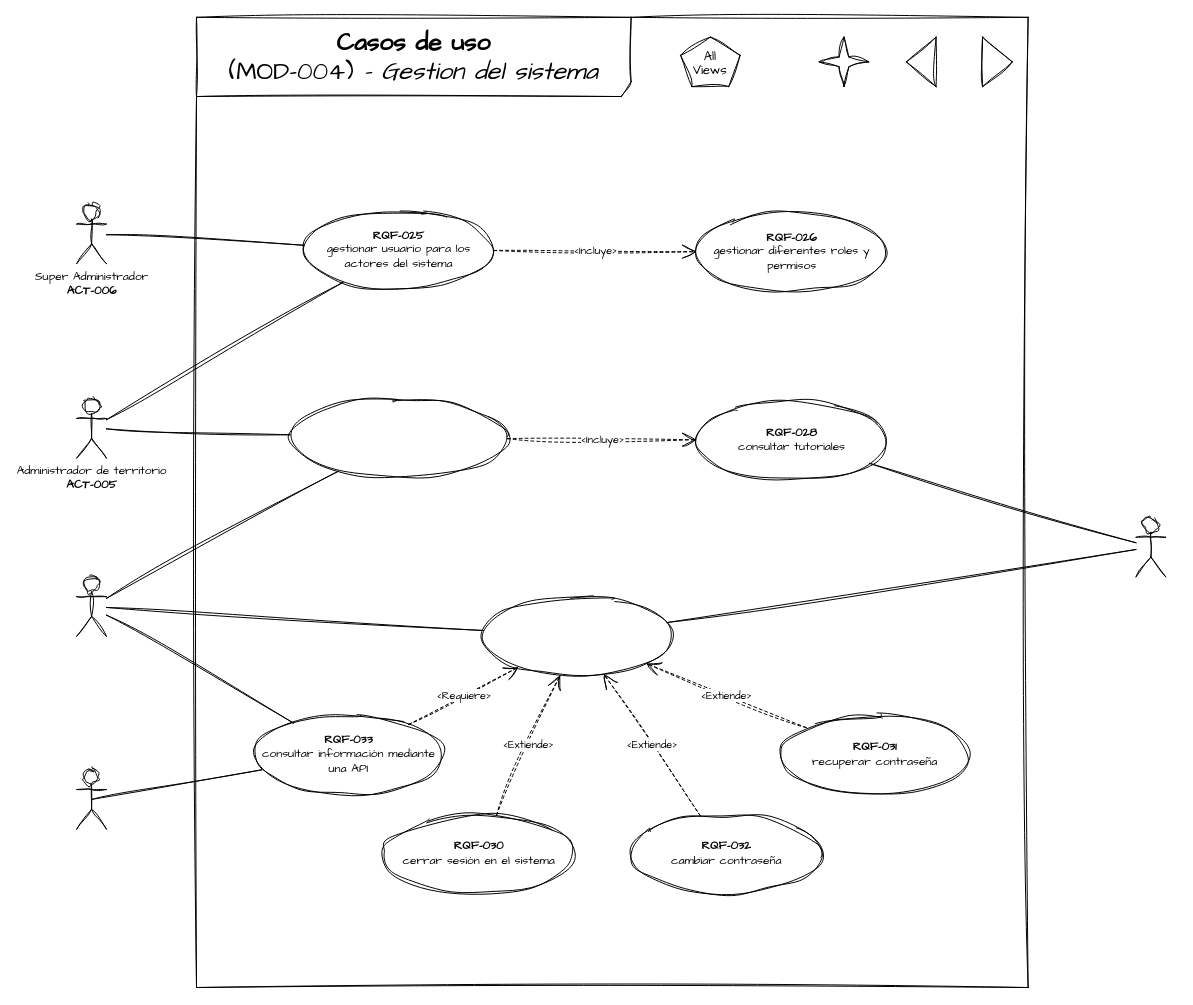
This 1193x1005 diagram has some shape labels left out. The shapes that lost their labels are listed below. From the top down, each one's centre as x and y in pixels, then its label:
At (398,438): "RQF-027 gestionar tutoriales integrados en el sistema".
At (1150,546): "Usuario ACT-008".
At (91,606): "Semillero ACT-007".
At (577,636): "RQF-029 iniciar sesión en el sistema".
At (91,799): "Modelo analítico ACT-009".
